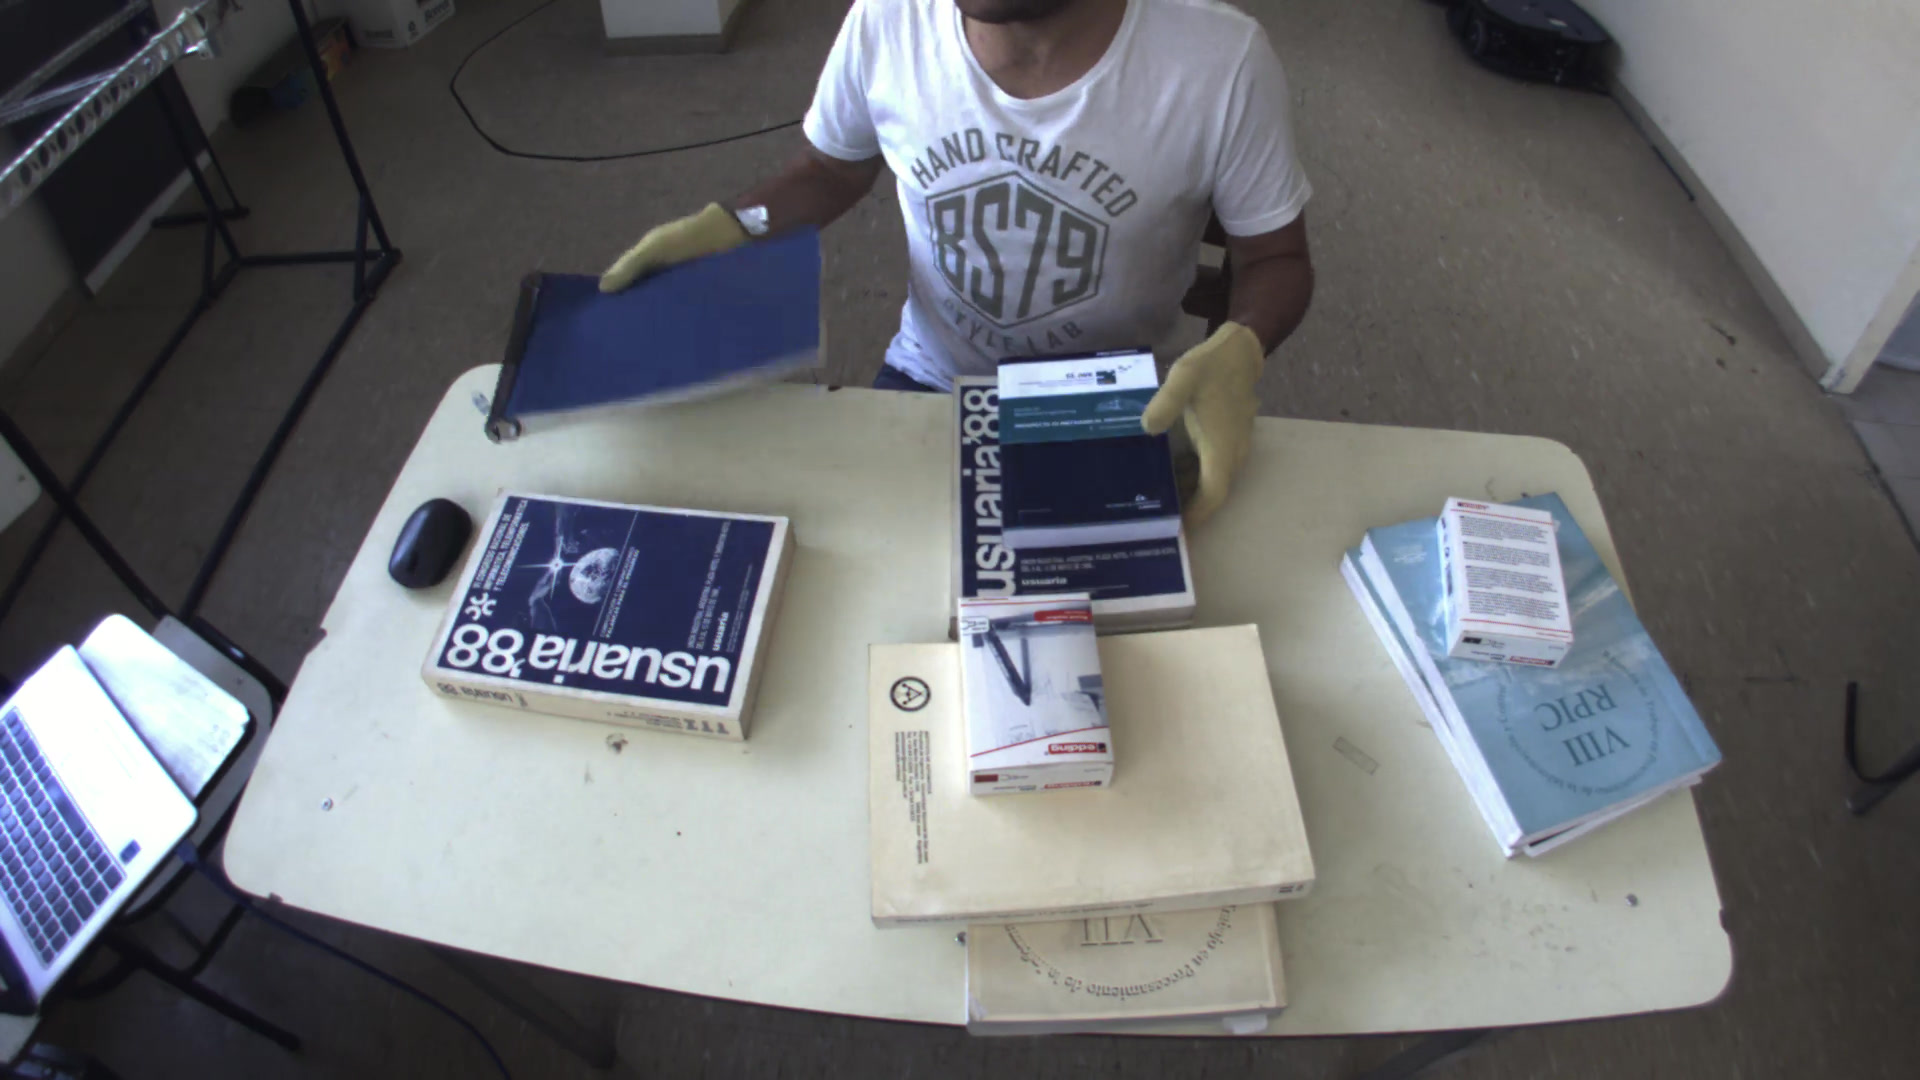hand: (1141, 311, 1278, 514), (588, 181, 752, 291)
